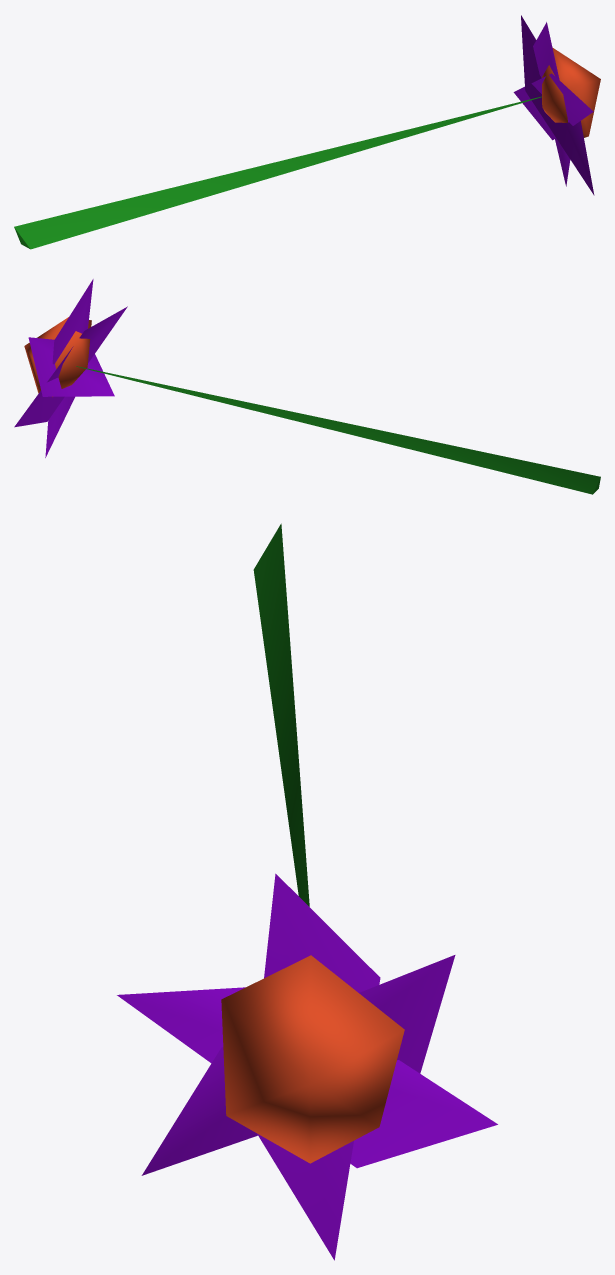
File: whThyme.glb
3 renders of one model, top to bottom at view 1: azimuth 30°, elevation 25°; view 2: azimuth 150°, elevation 25°; view 3: azimuth 270°, elevation 25°, orthographic. The views are drawn at different scales.
Visible parts, largest first — view 1: Icosphere.002, Icosphere.001; view 2: Icosphere.001, Icosphere.002; view 3: Icosphere.001, Icosphere.002.
Part boxes in pixels (left/top/right/bottom): Icosphere.002: left=14, top=96, right=541, bottom=249; Icosphere.001: left=513, top=15, right=600, bottom=195; Icosphere.001: left=14, top=279, right=127, bottom=457; Icosphere.002: left=76, top=366, right=600, bottom=494; Icosphere.001: left=117, top=873, right=497, bottom=1260; Icosphere.002: left=253, top=523, right=309, bottom=906.
Bounding box in the file's own units: 0.4621 × 0.1377 × 0.1342.
